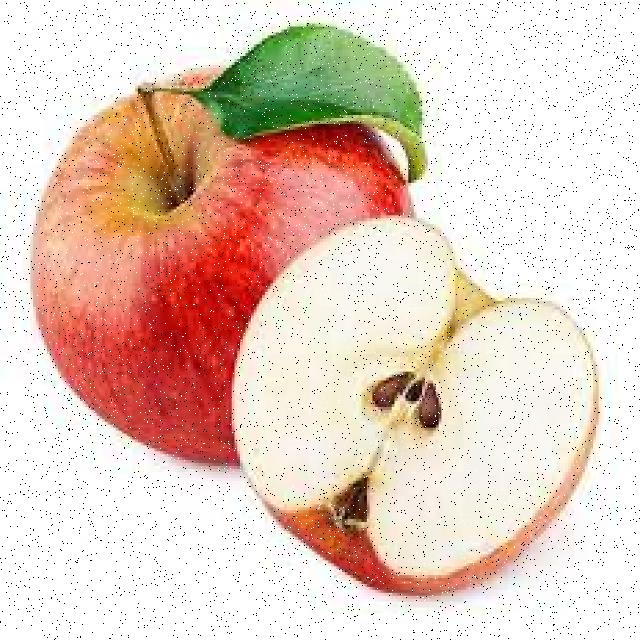Apple: (238, 215, 600, 596), (28, 61, 335, 442)
